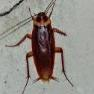cockroach: (28, 7, 58, 83)
